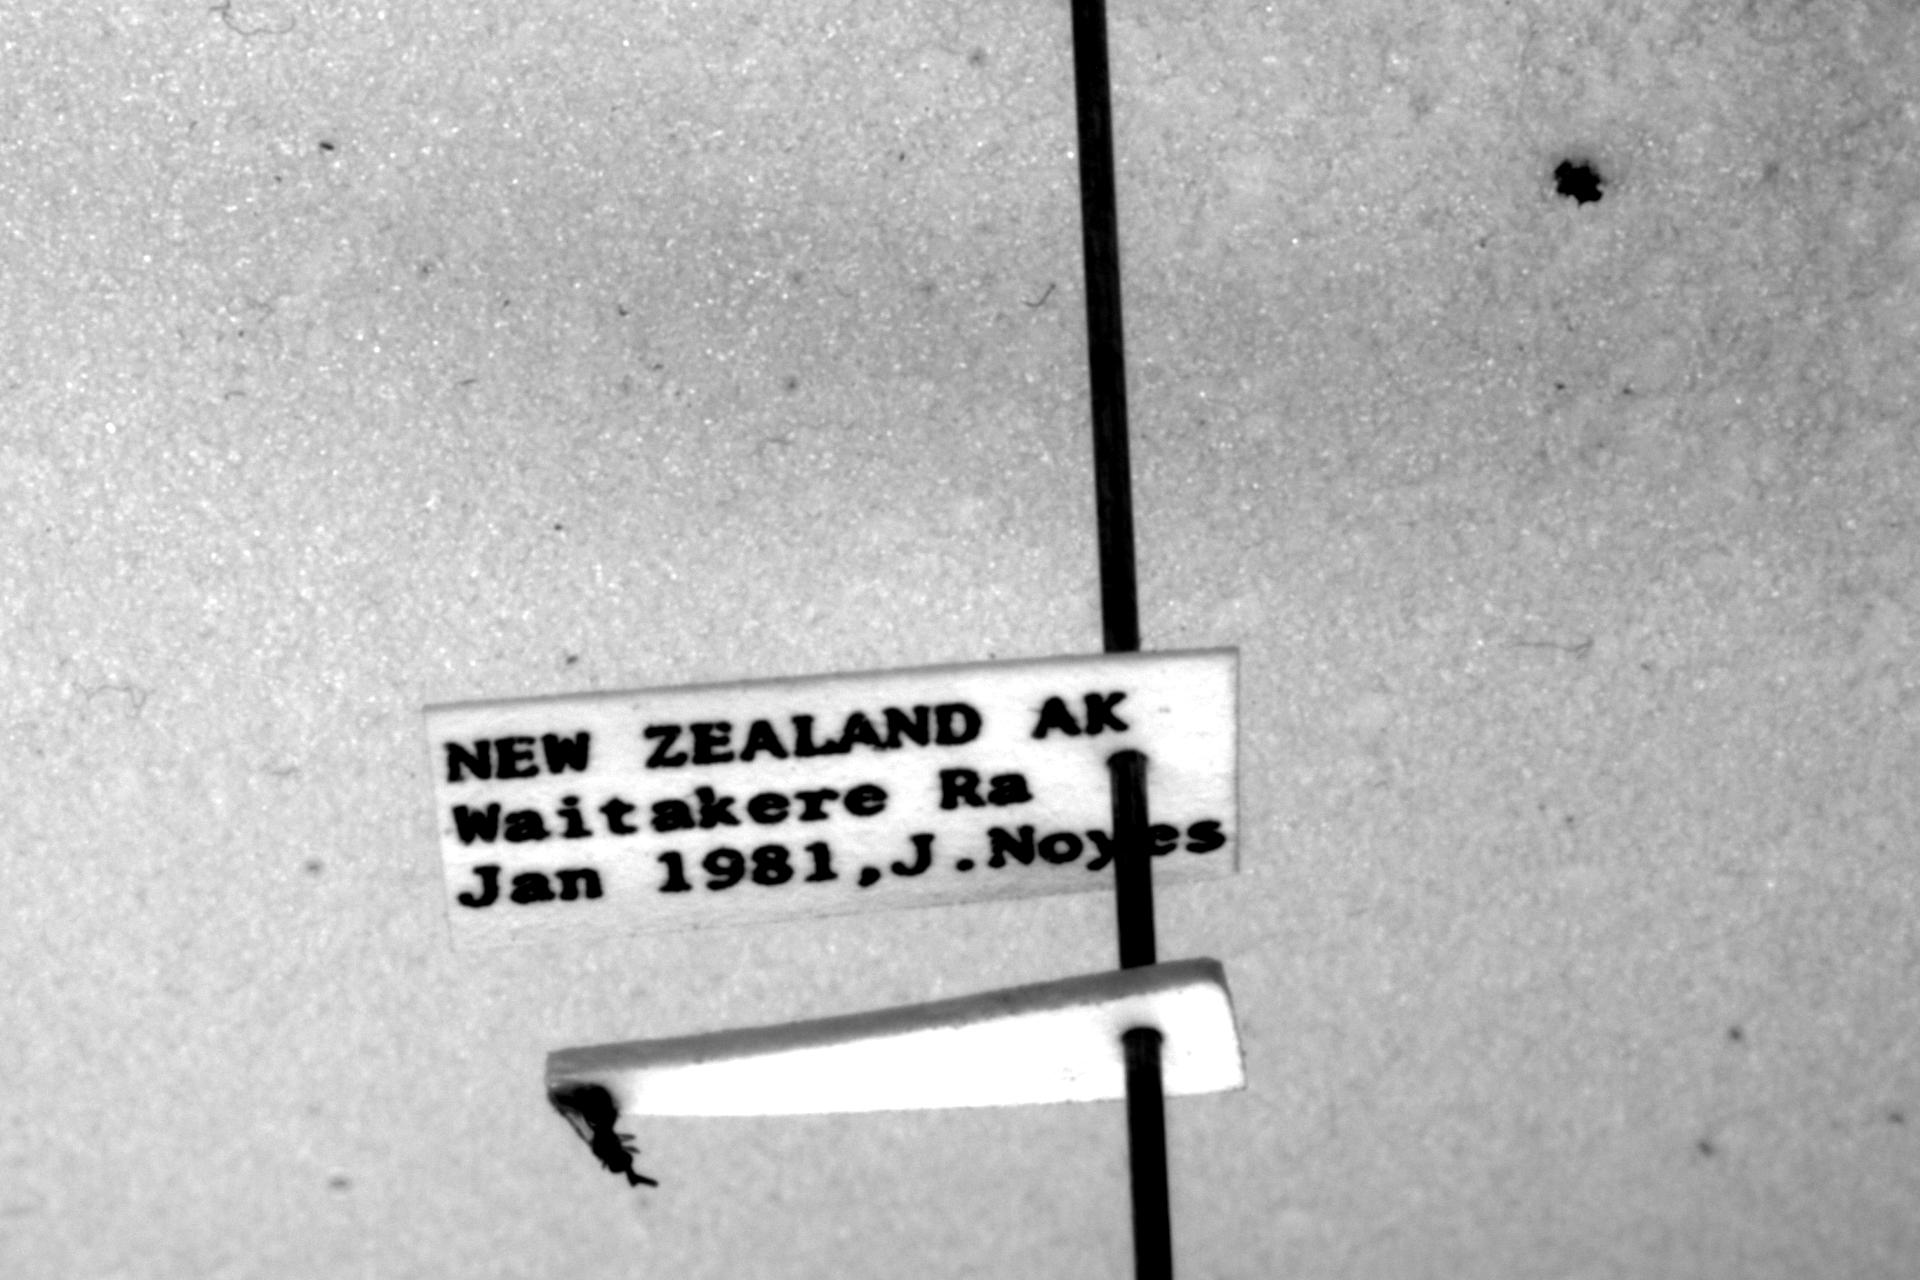typed_label: (424, 649, 1238, 949)
